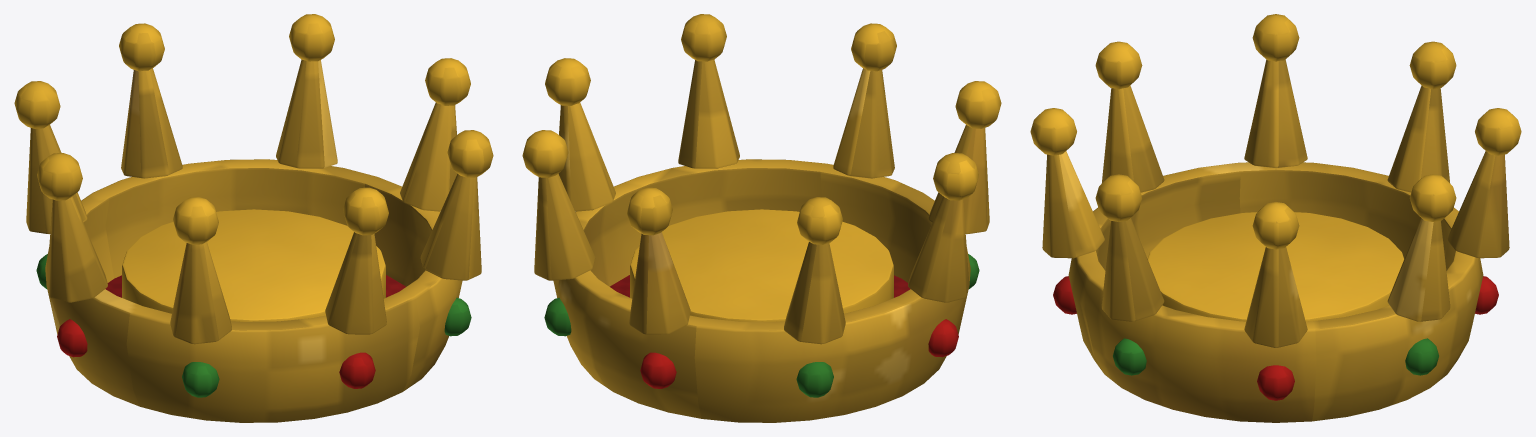
File: prop_cheese_crown.glb
The picture shows the model from 3 angles, left to right: view 1: azimuth 30°, elevation 25°; view 2: azimuth 150°, elevation 25°; view 3: azimuth 270°, elevation 25°; orthographic projection.
Parts seen in each view (by area): view 1: prop_cheese_crown; view 2: prop_cheese_crown; view 3: prop_cheese_crown.
Part boxes in pixels (bbox=[...]): prop_cheese_crown: bbox=[14, 14, 493, 422]; prop_cheese_crown: bbox=[522, 14, 1001, 422]; prop_cheese_crown: bbox=[1030, 14, 1521, 422].
Size of the model in its own units: 0.4499 by 0.237 by 0.4499.
5 materials, 5 textured.
